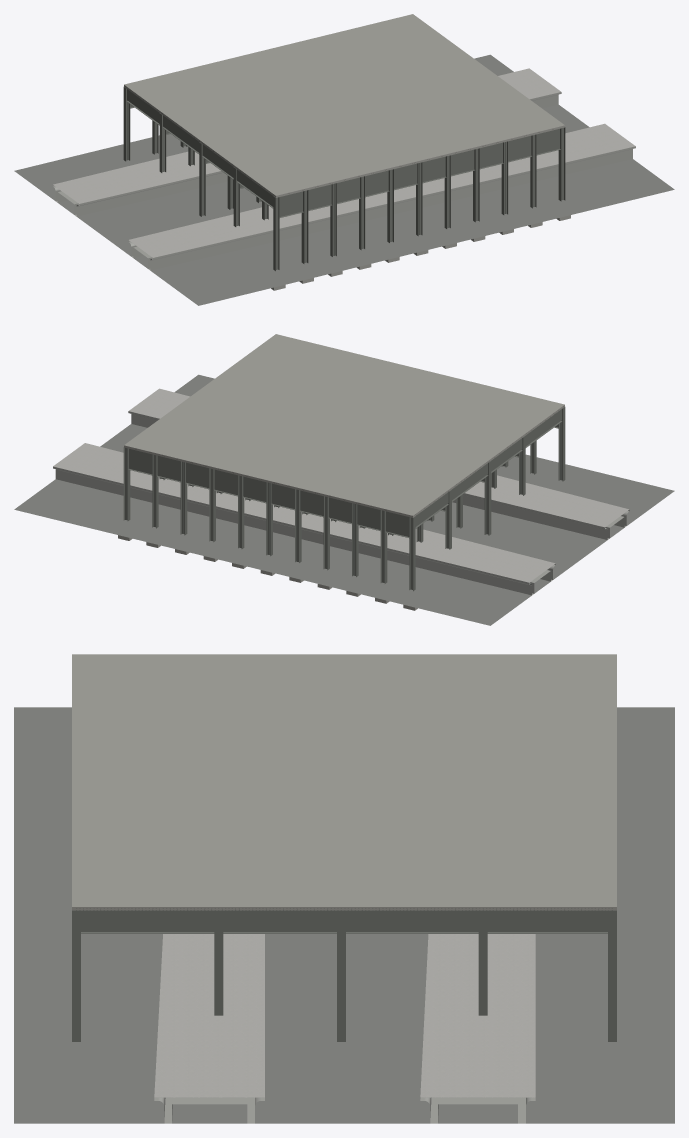
The model's file is enclosure-addon.glb.
The picture shows the model from 3 angles, top to bottom: view 1: azimuth 30°, elevation 25°; view 2: azimuth 150°, elevation 25°; view 3: azimuth 270°, elevation 25°; orthographic projection. The views are drawn at different scales.
Visible parts, largest first — view 1: Documented composite opaque roofplate and waterproof protect, Fresh true receiver Railway smooth concrete track base, Fresh true receiver RailwayPlatformStippledGranolithicPhase9, Fresh true receiver RailwayPlatformRubbedConcretePhase9, Bridge permanent row B4 built-up Icolumns, Permanent bent5 deep face-connected girders, Bridge permanent row B0 built-up Icolumns, Bridge permanent row B2 built-up Icolumns, Buried granite and concrete bearings row B4, Bridge permanent row B1 built-up Icolumns, Bay4 longitudinal girders and web connection returns, Bay2 longitudinal girders and web connection returns (+2 smaller); view 2: Documented composite opaque roofplate and waterproof protect, Fresh true receiver Railway smooth concrete track base, Fresh true receiver RailwayPlatformStippledGranolithicPhase9, Fresh true receiver RailwayPlatformRubbedConcretePhase9, Bridge permanent row B0 built-up Icolumns, Permanent bent1 deep face-connected girders, Bridge permanent row B2 built-up Icolumns, Bridge permanent row B4 built-up Icolumns, Bridge permanent row B1 built-up Icolumns, Buried granite and concrete bearings row B0, Bay4 longitudinal girders and web connection returns, Bay2 longitudinal girders and web connection returns (+2 smaller); view 3: Documented composite opaque roofplate and waterproof protect, Fresh true receiver Railway smooth concrete track base, Fresh true receiver RailwayPlatformStippledGranolithicPhase9, Bay4 longitudinal girders and web connection returns, Bay2 longitudinal girders and web connection returns, Bay1 longitudinal girders and web connection returns, Bay3 longitudinal girders and web connection returns, Fresh true receiver RailwayPlatformRubbedConcretePhase9, Bridge permanent row B0 built-up Icolumns, Bridge permanent row B2 built-up Icolumns, Bridge permanent row B4 built-up Icolumns, Bridge permanent row B1 built-up Icolumns (+1 smaller).
Boxes of the visible parts, box(x1,y1,x2,y2) form: Documented composite opaque roofplate and waterproof protect: box(124, 14, 564, 197); Fresh true receiver Railway smooth concrete track base: box(14, 54, 674, 305); Fresh true receiver RailwayPlatformStippledGranolithicPhase9: box(53, 68, 635, 257); Fresh true receiver RailwayPlatformRubbedConcretePhase9: box(53, 92, 635, 270); Bridge permanent row B4 built-up Icolumns: box(273, 127, 565, 271); Permanent bent5 deep face-connected girders: box(279, 129, 560, 217); Bridge permanent row B0 built-up Icolumns: box(123, 87, 187, 161); Bridge permanent row B2 built-up Icolumns: box(199, 142, 261, 216); Buried granite and concrete bearings row B4: box(271, 215, 570, 290); Bridge permanent row B1 built-up Icolumns: box(159, 113, 194, 172); Bay4 longitudinal girders and web connection returns: box(236, 169, 273, 208); Bay2 longitudinal girders and web connection returns: box(163, 115, 199, 154); Documented composite opaque roofplate and waterproof protect: box(124, 334, 564, 517); Fresh true receiver Railway smooth concrete track base: box(14, 374, 674, 625); Fresh true receiver RailwayPlatformStippledGranolithicPhase9: box(53, 388, 629, 582); Fresh true receiver RailwayPlatformRubbedConcretePhase9: box(53, 411, 629, 595); Bridge permanent row B0 built-up Icolumns: box(123, 447, 415, 591); Permanent bent1 deep face-connected girders: box(128, 449, 409, 537); Bridge permanent row B2 built-up Icolumns: box(427, 461, 491, 535); Bridge permanent row B4 built-up Icolumns: box(501, 407, 565, 481); Bridge permanent row B1 built-up Icolumns: box(159, 477, 451, 549); Buried granite and concrete bearings row B0: box(118, 535, 417, 610); Bay4 longitudinal girders and web connection returns: box(525, 409, 561, 447); Bay2 longitudinal girders and web connection returns: box(452, 463, 488, 501); Documented composite opaque roofplate and waterproof protect: box(72, 654, 616, 910); Fresh true receiver Railway smooth concrete track base: box(14, 707, 674, 1123); Fresh true receiver RailwayPlatformStippledGranolithicPhase9: box(154, 934, 535, 1097); Bay4 longitudinal girders and web connection returns: box(81, 910, 214, 933); Bay2 longitudinal girders and web connection returns: box(346, 910, 478, 933); Bay1 longitudinal girders and web connection returns: box(487, 910, 607, 933); Bay3 longitudinal girders and web connection returns: box(223, 910, 336, 933); Fresh true receiver RailwayPlatformRubbedConcretePhase9: box(154, 1097, 535, 1123); Bridge permanent row B0 built-up Icolumns: box(608, 910, 616, 1041); Bridge permanent row B2 built-up Icolumns: box(337, 910, 345, 1041); Bridge permanent row B4 built-up Icolumns: box(72, 910, 80, 1041); Bridge permanent row B1 built-up Icolumns: box(478, 910, 487, 1015).
Size of the model in its own units: 50.86 by 9.44 by 34.11.
7 materials, 1 textured.
